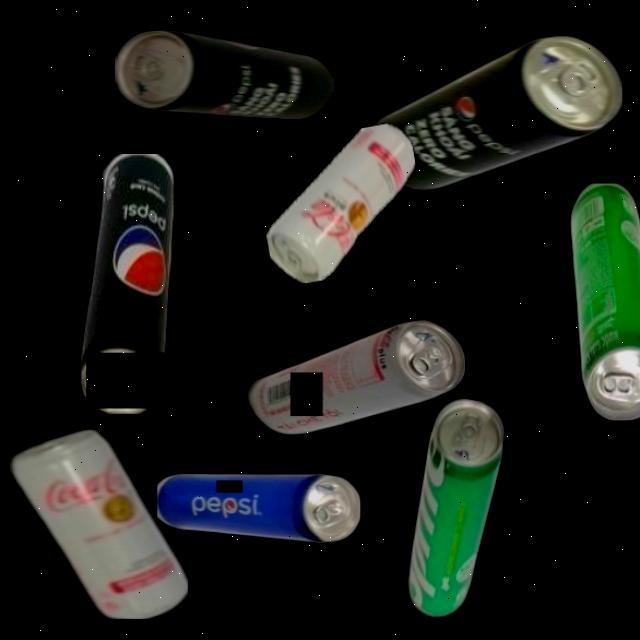debris: (369, 35, 623, 190), (9, 429, 188, 619), (251, 120, 433, 288), (234, 319, 465, 435), (399, 394, 511, 624), (78, 153, 174, 414), (115, 28, 334, 119), (569, 182, 640, 420), (157, 473, 360, 544)
